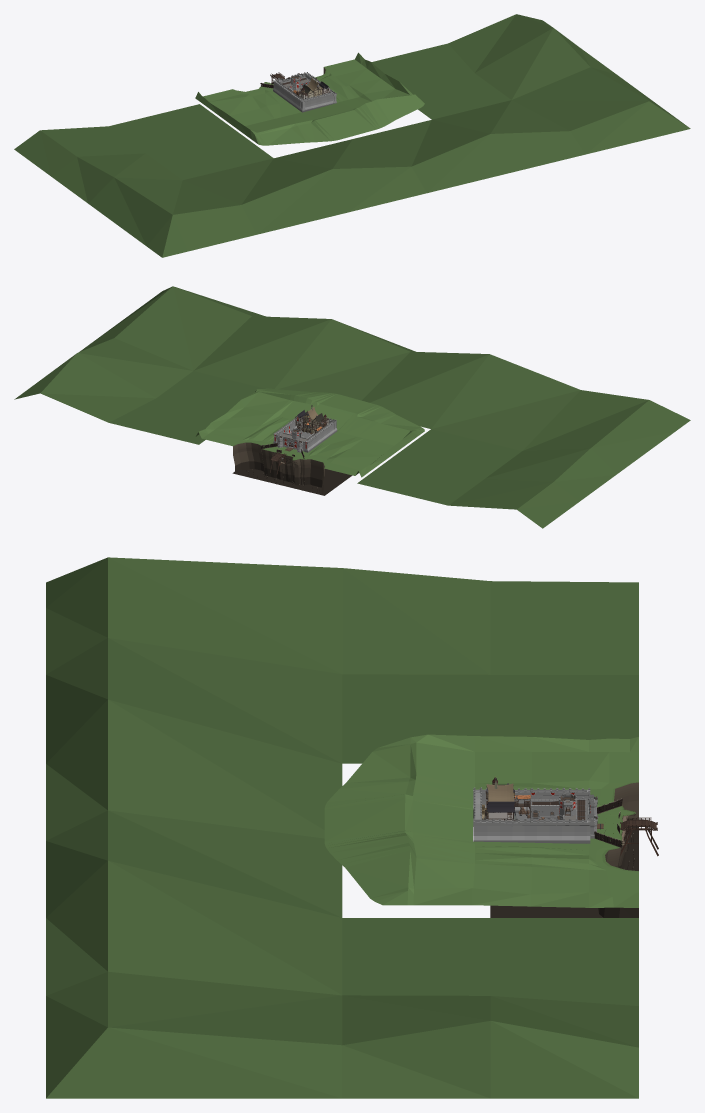
File: narrowCastles.glb
3 views of the same model, one above another, from view 1: azimuth 30°, elevation 25°; view 2: azimuth 150°, elevation 25°; view 3: azimuth 270°, elevation 25° (orthographic). The views are drawn at different scales.
Parts seen in each view (by area): view 1: Plane.134, Plane.043, Plane.194, Plane.082; view 2: Plane.134, Plane.043, Plane.078, Plane.194; view 3: Plane.134, Plane.043, Plane.194, Plane.078.
Boxes of the visible parts, box(x1,y1,x2,y2) form: Plane.134: box(14, 14, 690, 257); Plane.043: box(195, 52, 424, 145); Plane.194: box(273, 72, 336, 112); Plane.082: box(300, 92, 334, 112); Plane.134: box(14, 286, 690, 528); Plane.043: box(196, 388, 424, 494); Plane.078: box(232, 469, 352, 495); Plane.194: box(273, 418, 337, 452); Plane.134: box(46, 557, 638, 1098); Plane.043: box(324, 734, 638, 917); Plane.194: box(473, 788, 590, 843); Plane.078: box(490, 839, 638, 917).
Size of what is drawn, in the model's own units: 454 by 44.44 by 228.
